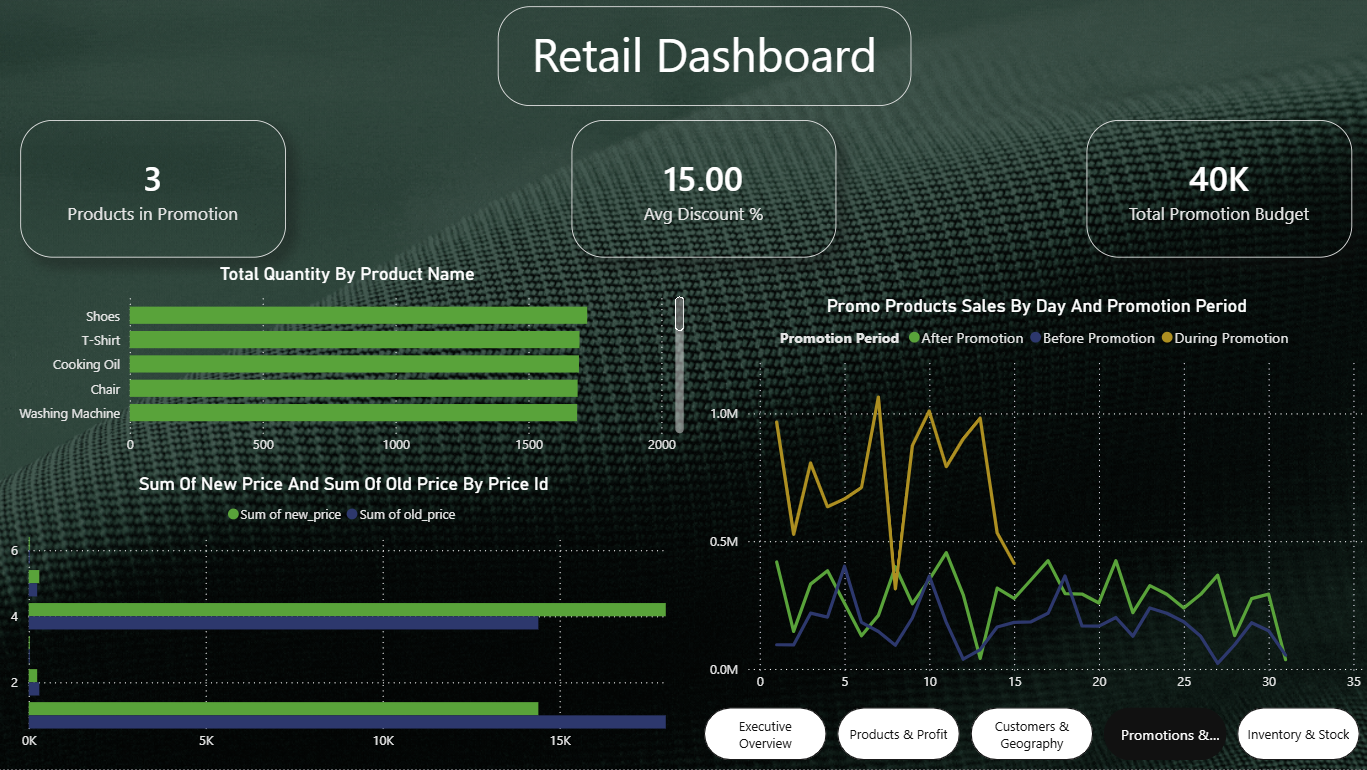

Layout of this report page (visuals, bound fields, positions):
{"tool":"powerbi","page":{"name":"Promotions & Pricing Impact","canvas":[1280,720],"ordinal":3},"visuals":[{"type":"cardVisual","fields":{"Data":["Measure Table.Products in Promotion"]},"box":[25,115.8,247,128.3],"z":0},{"type":"cardVisual","fields":{"Data":["Measure Table.Avg Discount %"]},"box":[537.5,115.8,246.7,128.3],"z":1000},{"type":"cardVisual","fields":{"Data":["Measure Table.Total Promotion Budget"]},"box":[1016.7,115.8,247,128.3],"z":2000},{"type":"lineChart","title":"Promo Products Sales By Day And Promotion Period","fields":{"Y":["Measure Table.Promo Products Sales"],"Series":["Orders.Promotion Period"],"Category":["Orders.order_date.Variation.Date Hierarchy.Day"]},"box":[660.7,278.6,619.3,377.8],"z":3000},{"type":"clusteredBarChart","title":"Sum Of New Price And Sum Of Old Price By Price Id","fields":{"Category":["Price_History.price_id"],"Y":["Sum(Price_History.new_price)","Sum(Price_History.old_price)"]},"box":[10.4,444.2,629.6,267.4],"z":4000},{"type":"barChart","title":"Total Quantity By Product Name","fields":{"Category":["Products.product_name"],"Y":["Measure Table.Total Quantity"]},"box":[10.4,248.4,636.5,188],"z":5000},{"type":"pageNavigator","box":[660.8,662.5,610,49.2],"z":7000},{"type":"textbox","box":[468.4,10,384.7,93.2],"z":8000}]}

Visuals, with their boxes in screenshot pixels (x1, y1, x2, y2), scaled from the page's 1280x720 canvas onto the 1367x770 screenshot:
cardVisual - Measure Table.Products in Promotion: box=[27, 124, 290, 261]
cardVisual - Measure Table.Avg Discount %: box=[574, 124, 838, 261]
cardVisual - Measure Table.Total Promotion Budget: box=[1086, 124, 1350, 261]
"Promo Products Sales By Day And Promotion Period" lineChart: box=[706, 298, 1366, 702]
"Sum Of New Price And Sum Of Old Price By Price Id" clusteredBarChart: box=[11, 475, 684, 761]
"Total Quantity By Product Name" barChart: box=[11, 266, 691, 467]
pageNavigator: box=[706, 709, 1357, 761]
textbox: box=[500, 11, 911, 110]
